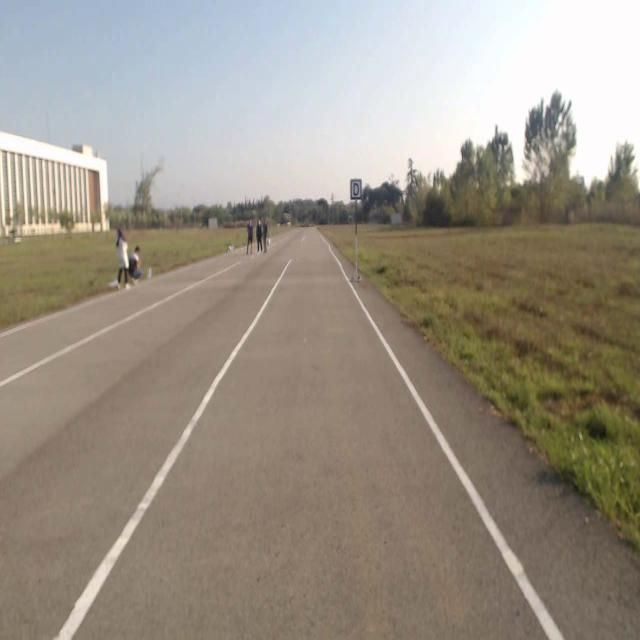durak: (350, 179, 362, 200)
